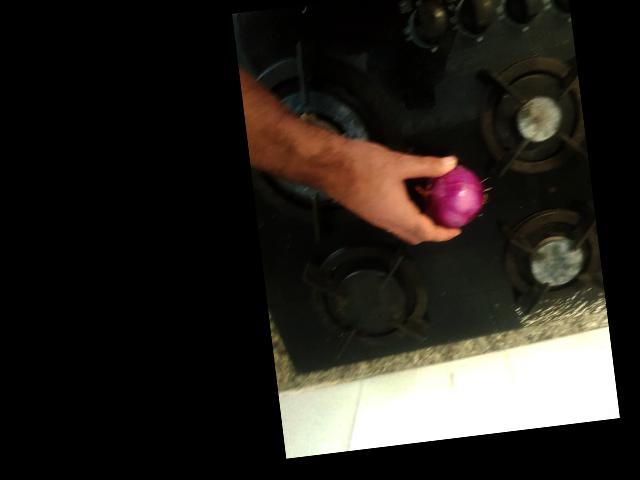onion: (477, 266, 541, 319)
